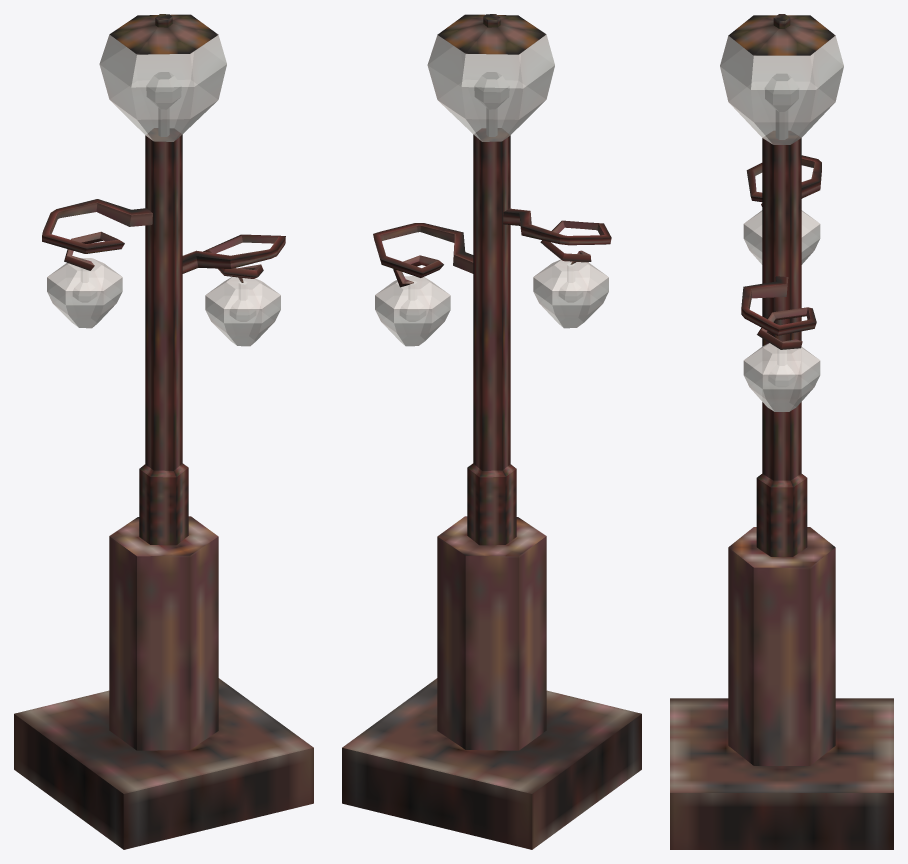
File: Poly_SF_Outside_B_Street_Light_02.obj
3 renders of one model, left to right at view 1: azimuth 30°, elevation 25°; view 2: azimuth 150°, elevation 25°; view 3: azimuth 270°, elevation 25°, orthographic. The views are drawn at different scales.
Visible parts, largest first — view 1: Cube.001, Cube.002, Cube.003, Cube.004; view 2: Cube.001, Cube.002, Cube.003, Cube.004; view 3: Cube.001, Cube.002, Cube.003, Cube.004.
Boxes of the visible parts, bbox=[...] form: Cube.001: bbox=[14, 14, 313, 849]; Cube.002: bbox=[47, 34, 280, 346]; Cube.003: bbox=[42, 199, 285, 282]; Cube.004: bbox=[73, 72, 255, 321]; Cube.001: bbox=[342, 14, 641, 849]; Cube.002: bbox=[375, 34, 608, 346]; Cube.003: bbox=[373, 208, 611, 287]; Cube.004: bbox=[400, 72, 582, 321]; Cube.001: bbox=[670, 14, 893, 849]; Cube.002: bbox=[720, 36, 843, 411]; Cube.003: bbox=[741, 155, 821, 349]; Cube.004: bbox=[765, 74, 798, 386].
Bounding box in the file's own units: 1.01 × 3.07 × 0.7933.
2 materials, 2 textured.
